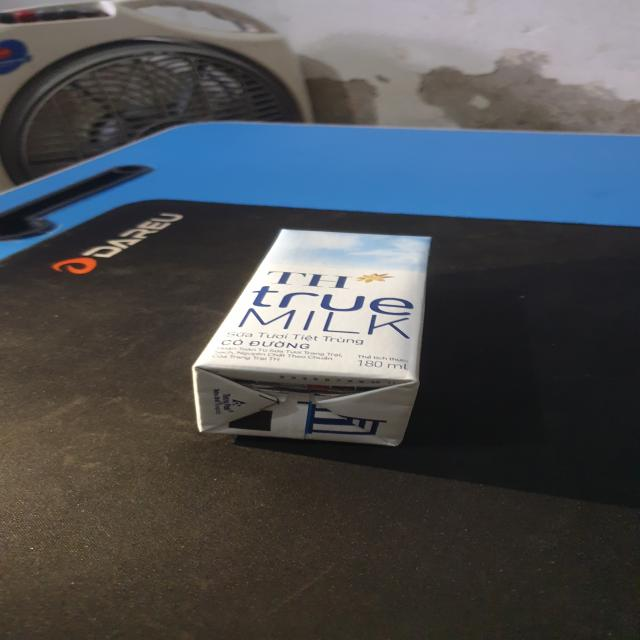TH: (190, 229, 437, 447)
